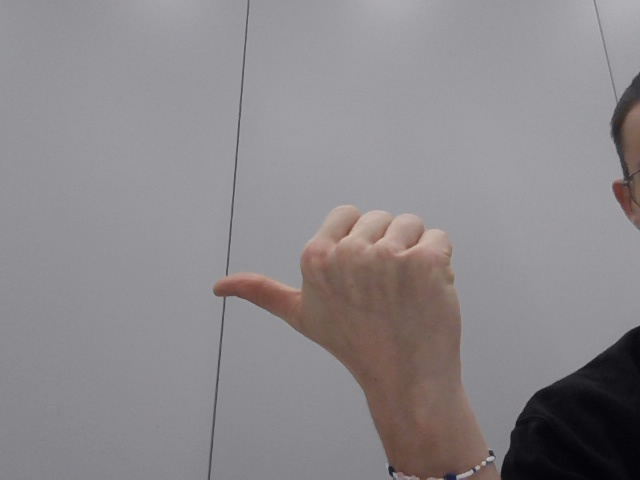right: (202, 190, 493, 446)
